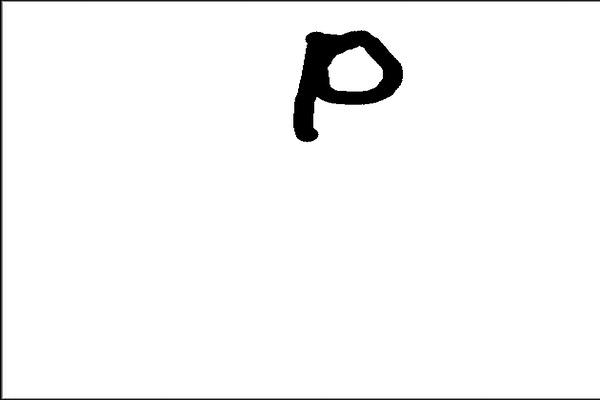P: (281, 22, 409, 145)
